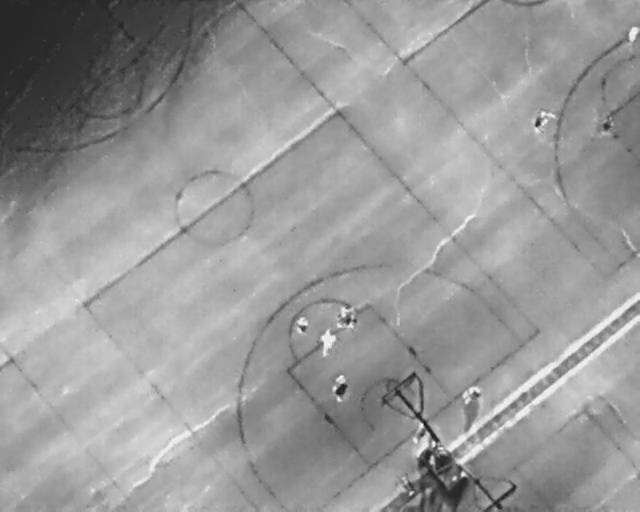Person: (408, 418, 432, 448), (339, 302, 358, 331), (332, 373, 348, 401), (322, 328, 335, 361), (463, 385, 482, 406), (536, 107, 550, 133), (296, 313, 308, 335)
